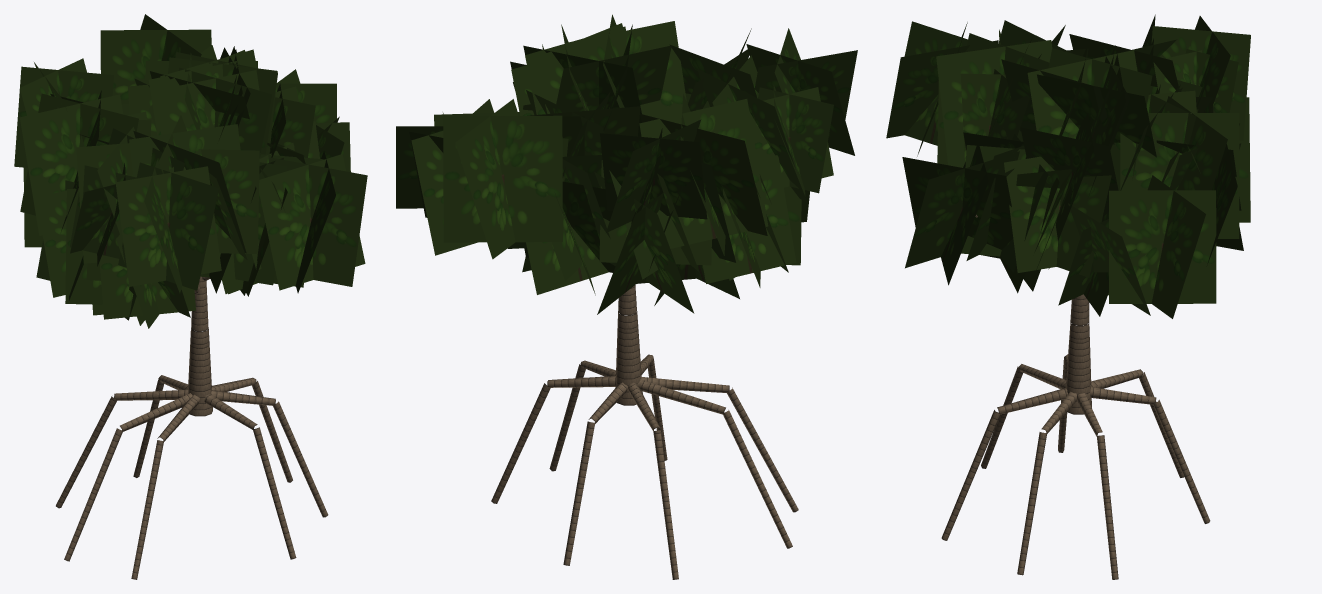
Rendered from SM_Art_Veg_Mangrove_2.gltf.
3 views of the same model, side by side, from view 1: azimuth 30°, elevation 25°; view 2: azimuth 150°, elevation 25°; view 3: azimuth 270°, elevation 25° (orthographic). The views are drawn at different scales.
Parts seen in each view (by area): view 1: SM_Art_Veg_Mangrove_2; view 2: SM_Art_Veg_Mangrove_2; view 3: SM_Art_Veg_Mangrove_2.
Boxes of the visible parts, left/top/right/bottom form: SM_Art_Veg_Mangrove_2: left=14, top=14, right=367, bottom=579; SM_Art_Veg_Mangrove_2: left=396, top=14, right=857, bottom=579; SM_Art_Veg_Mangrove_2: left=886, top=14, right=1250, bottom=579.
Size of the model in its own units: 5.85 by 7.51 by 6.2.
Materials: 2 (2 with a texture image).
